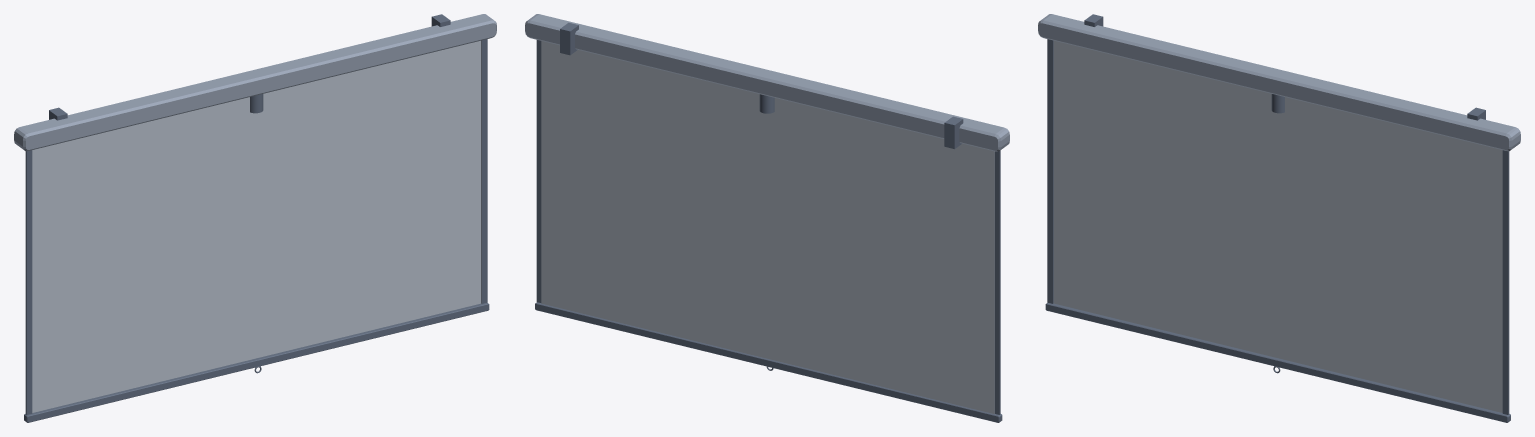
Rendered from projection-screen.glb.
The picture shows the model from 3 angles, left to right: view 1: azimuth 30°, elevation 25°; view 2: azimuth 150°, elevation 25°; view 3: azimuth 330°, elevation 25°; orthographic projection.
Parts seen in each view (by area): view 1: light, body, dark; view 2: light, body, dark; view 3: light, body, dark.
Part boxes in pixels (left/top/right/bottom): light: left=32, top=40, right=481, bottom=412; body: left=14, top=14, right=496, bottom=151; dark: left=24, top=14, right=489, bottom=422; light: left=541, top=41, right=994, bottom=413; body: left=525, top=14, right=1009, bottom=151; dark: left=535, top=22, right=1002, bottom=422; light: left=1053, top=40, right=1502, bottom=412; body: left=1038, top=14, right=1520, bottom=151; dark: left=1045, top=14, right=1510, bottom=422.
Size of the model in its own units: 2.08 by 1.27 by 0.118.
